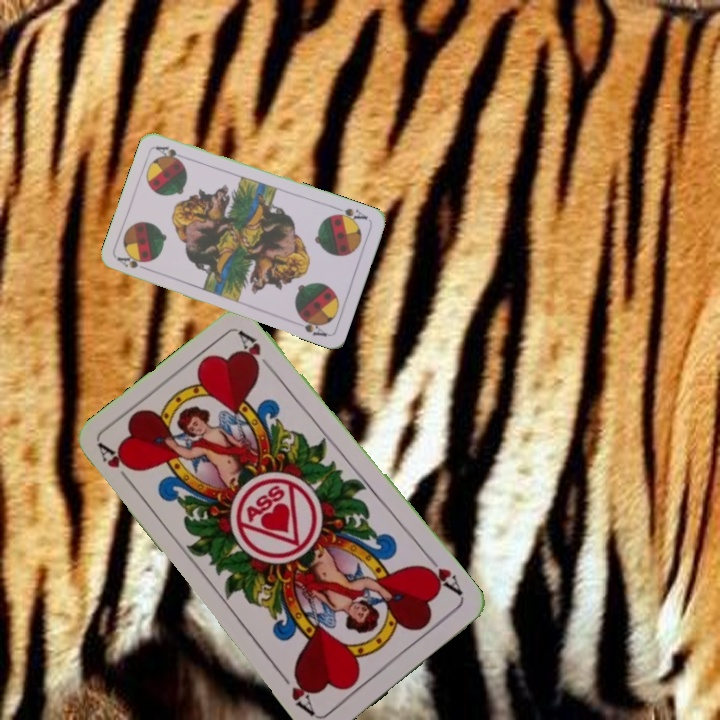HA: (417, 551, 466, 601), (95, 440, 139, 491)
SA: (329, 203, 370, 225), (114, 253, 153, 274)
